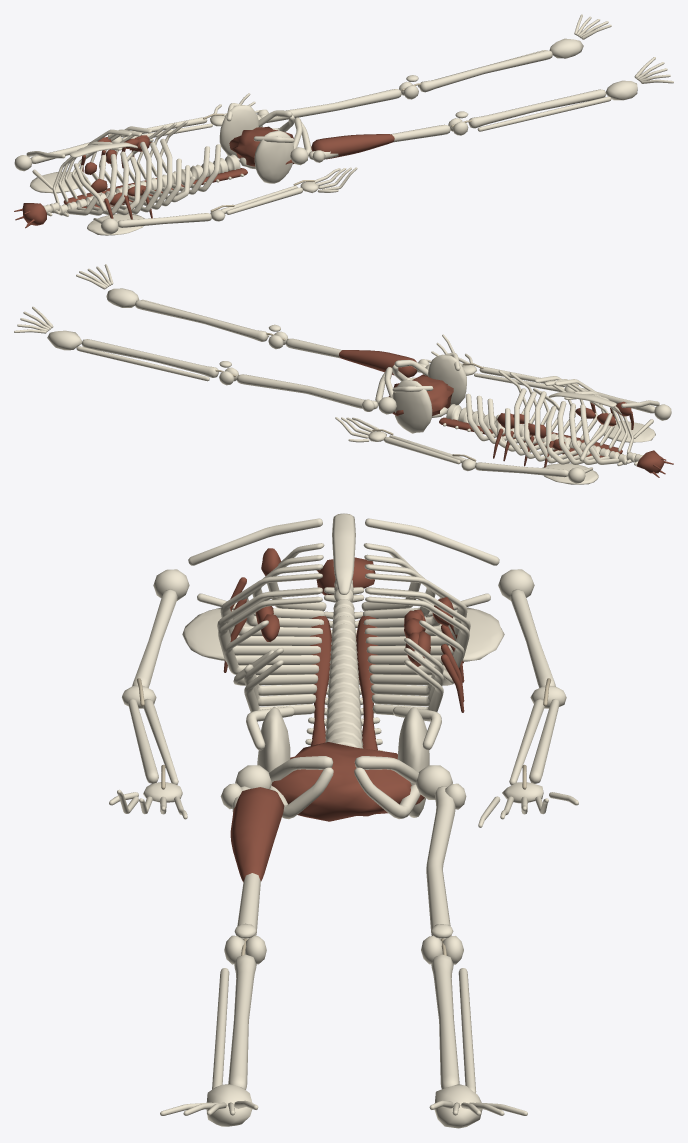
File: skeleton_headless.glb
3 views of the same model, one above another, from view 1: azimuth 30°, elevation 25°; view 2: azimuth 150°, elevation 25°; view 3: azimuth 270°, elevation 25° (orthographic). The views are drawn at different scales.
Visible parts, largest first — view 1: skeleton_headless; view 2: skeleton_headless; view 3: skeleton_headless.
Part boxes in pixels (bbox=[...]): skeleton_headless: bbox=[14, 14, 673, 235]; skeleton_headless: bbox=[14, 264, 673, 484]; skeleton_headless: bbox=[109, 513, 578, 1128].
Bounding box in the file's own units: 1.73 × 0.172 × 0.5726.
